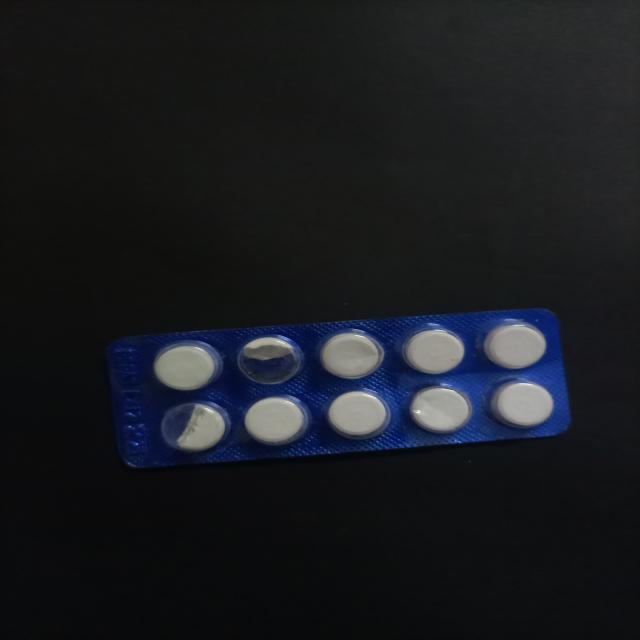defect: (158, 398, 234, 455), (234, 332, 308, 388)
